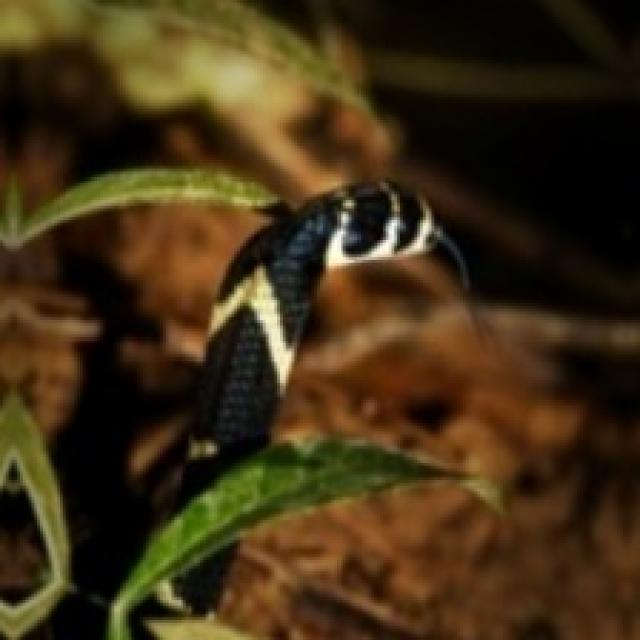king cobra: (186, 180, 460, 460), (194, 180, 460, 454), (109, 431, 460, 637)
